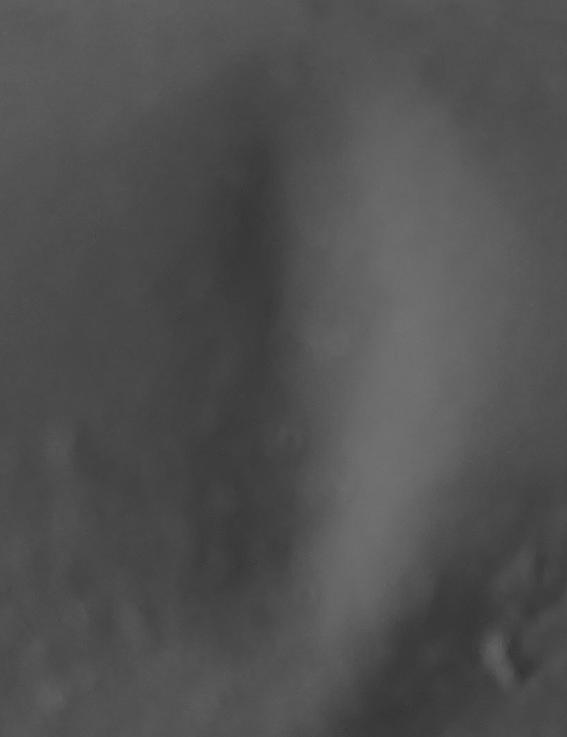dent: (1, 0, 567, 737)
